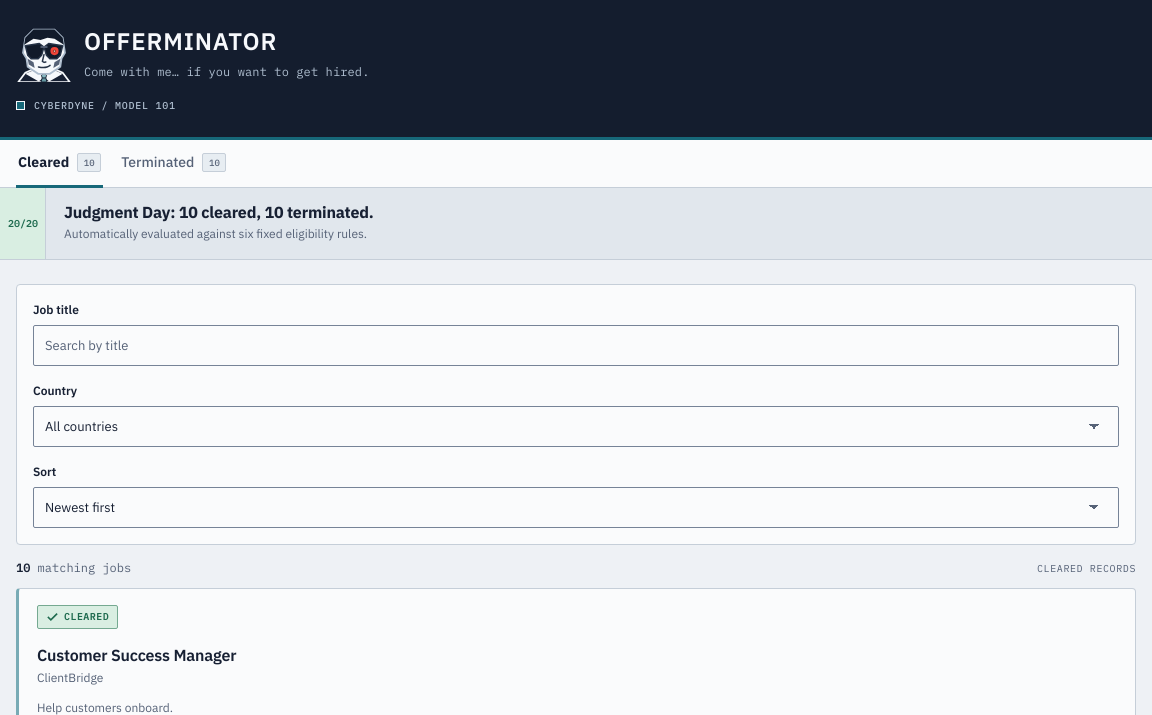
Test: approved jobs UI › shows Germany as an empty result and Clear filters restores defaults and the full list
The width and height of the screenshot is (1152, 715).
In the search field labelled "Job title": (576, 346) [33,325,1119,366], type "Engineer"
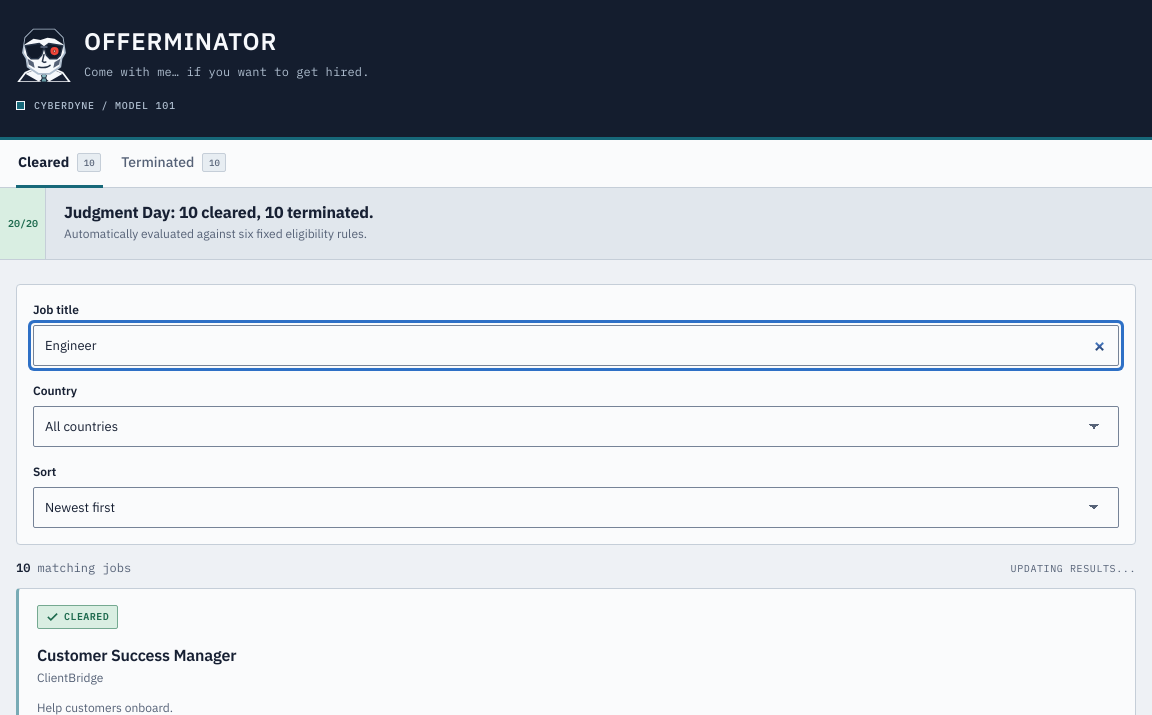
Select "Germany" in the dropdown labelled "Country": (576, 427) [33,406,1119,447]
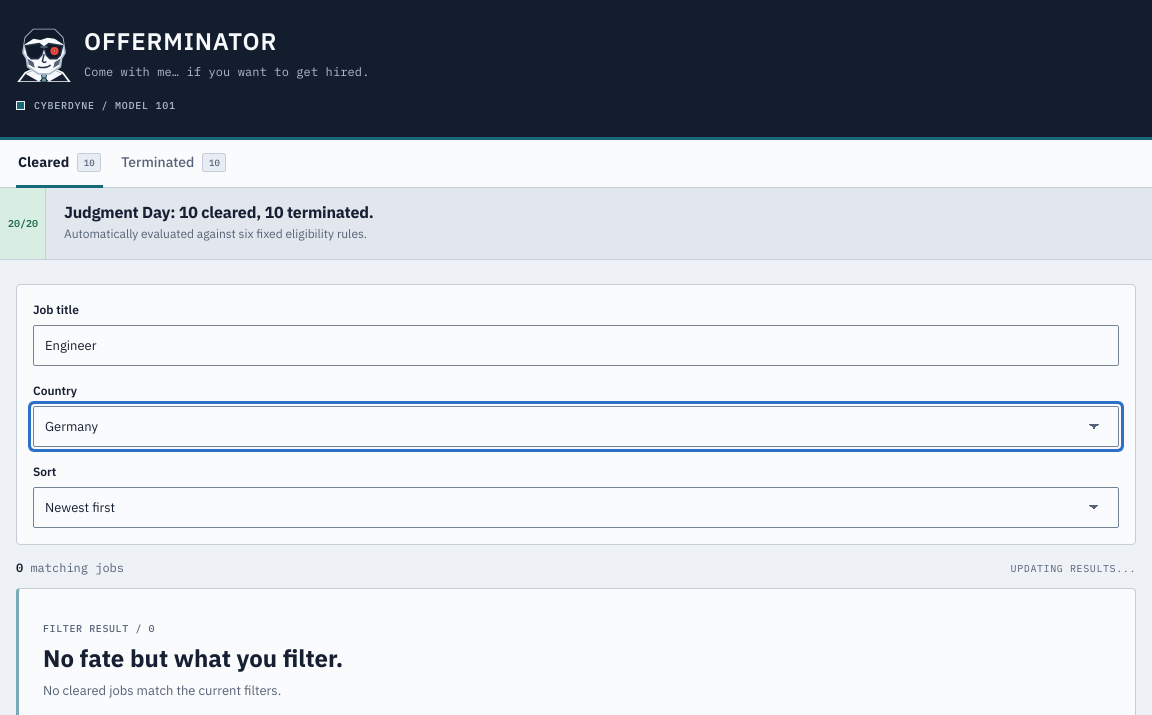
Select "Lowest salary" in the dropdown labelled "Sort": (576, 508) [33,487,1119,528]
(page scrolled)
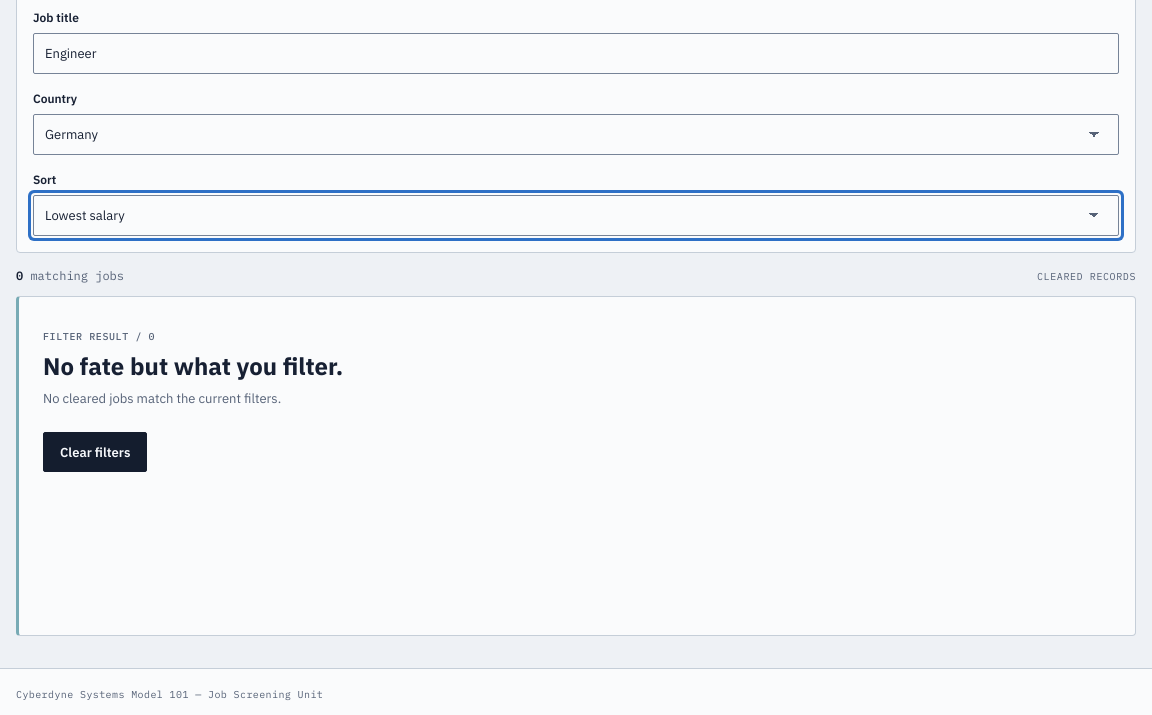
Now the heading "No fate but what you filter." is shown, box [43,350,343,382]
Now the message reads "0 matching jobs", box [16,268,124,283]
Now the text "No cleared jobs match the current filters." is shown, box [43,390,281,407]
Click the button "Clear filters": (95, 452) [43,432,147,472]
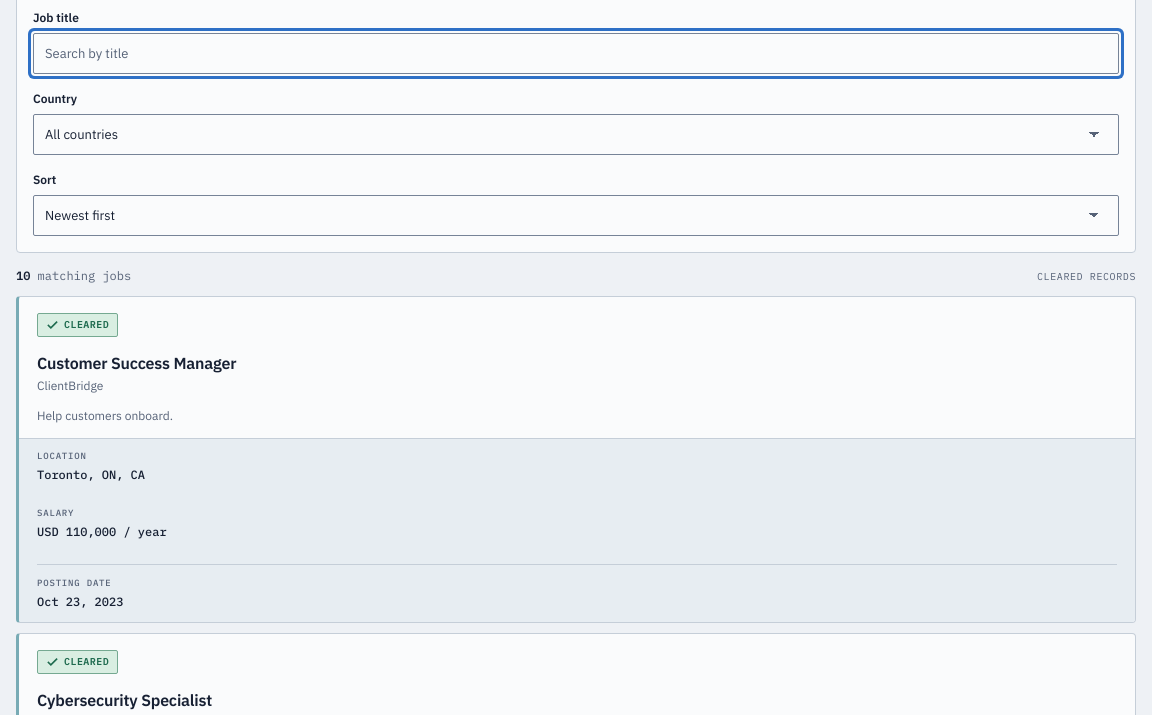
Now the search field labelled "Job title" is empty, box [33,33,1119,74]
